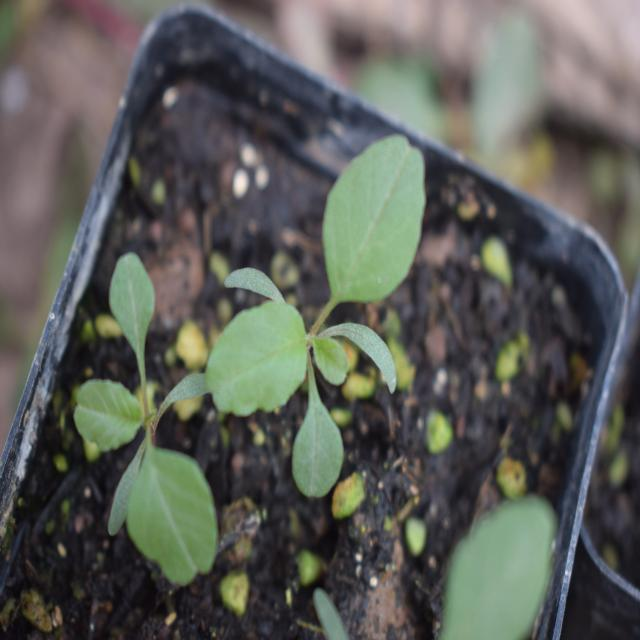pigweed: (202, 128, 447, 490), (58, 250, 226, 577)
